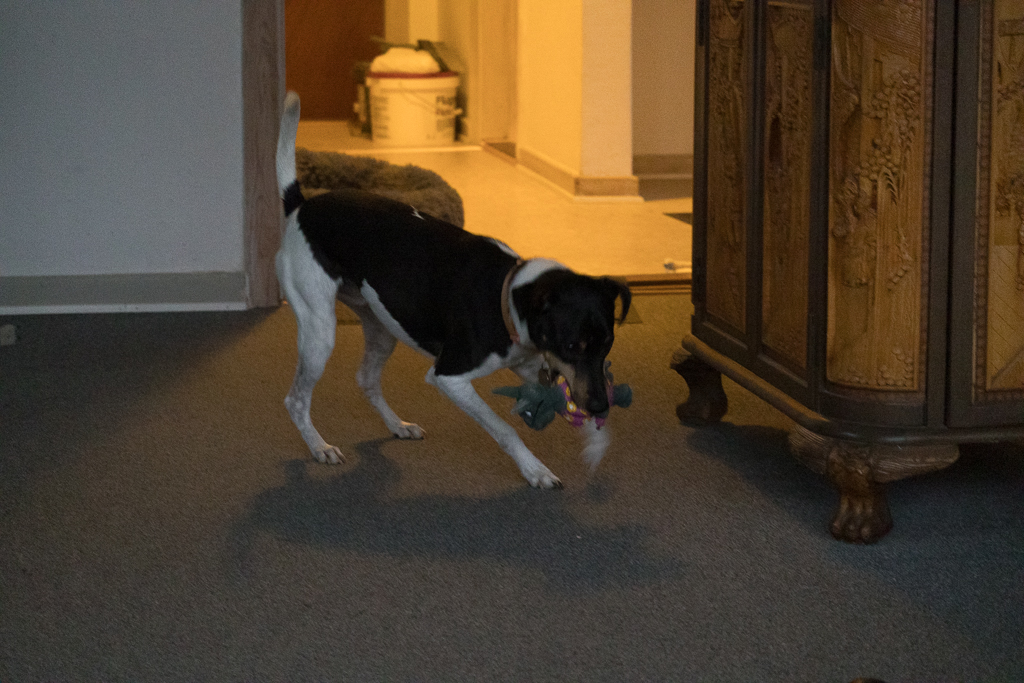Dog: (263, 78, 648, 499)
Humanoid: (485, 350, 638, 436)
